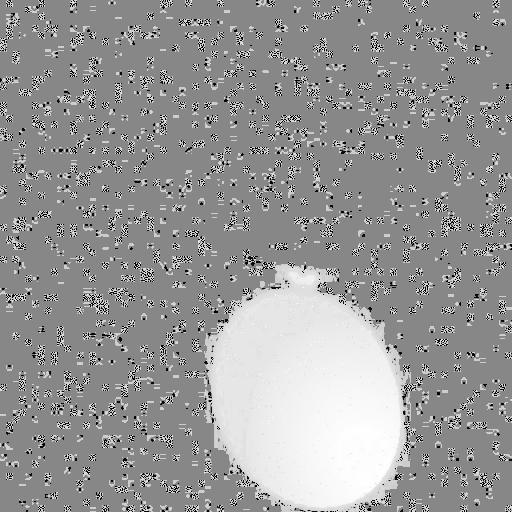balloon: (196, 264, 404, 512)
